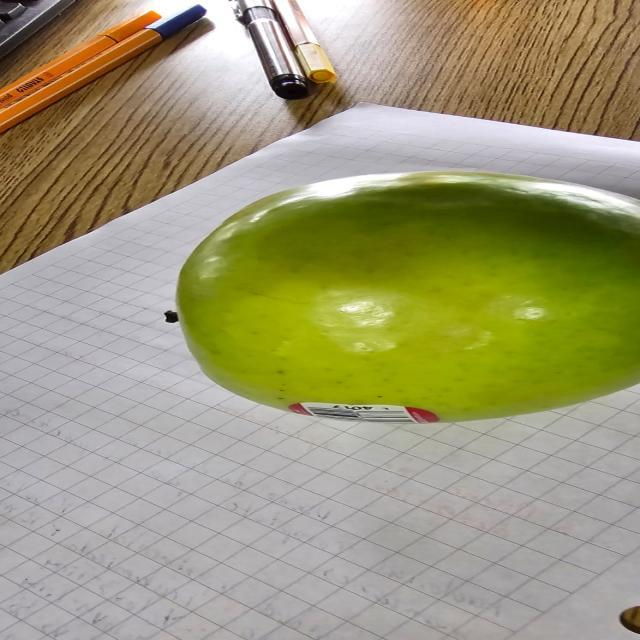Apel Granny Smith: (160, 168, 640, 427)
